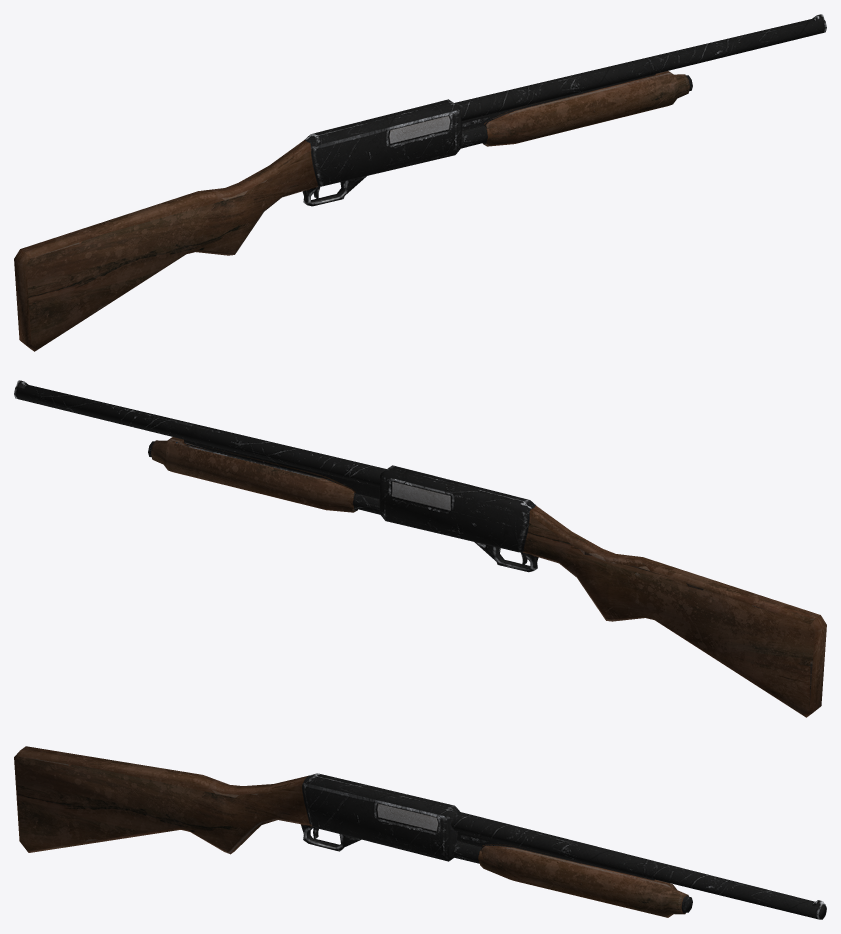
File: SM_GunShotgun.FBX
3 renders of one model, top to bottom at view 1: azimuth 30°, elevation 25°; view 2: azimuth 150°, elevation 25°; view 3: azimuth 330°, elevation 25°, orthographic.
Parts seen in each view (by area): view 1: SM_GunShotgun; view 2: SM_GunShotgun; view 3: SM_GunShotgun.
Part boxes in pixels (x1,y1,x2,y2): SM_GunShotgun: (14, 14, 826, 351); SM_GunShotgun: (14, 380, 826, 717); SM_GunShotgun: (14, 746, 826, 919).
Size of the model in its own units: 102 by 17.64 by 3.11.
